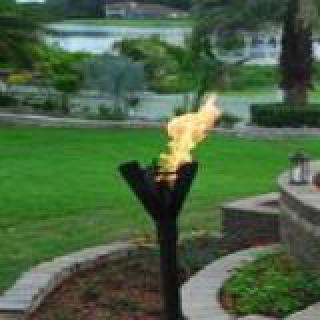fire: (150, 82, 228, 172)
